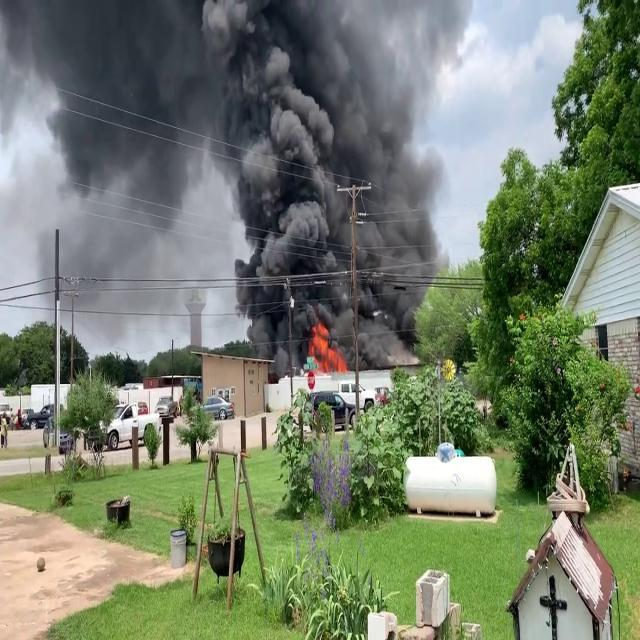Fire: (305, 318, 347, 372)
Smoke: (202, 1, 454, 353), (1, 1, 215, 336)
